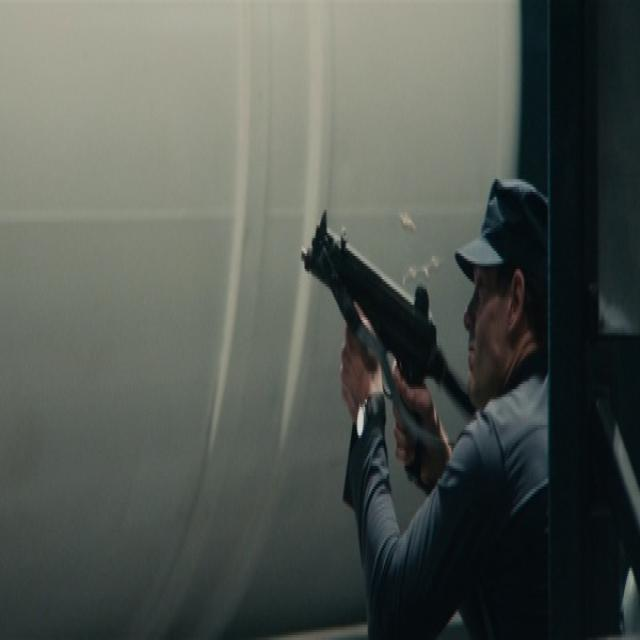rifle: (302, 211, 449, 393)
